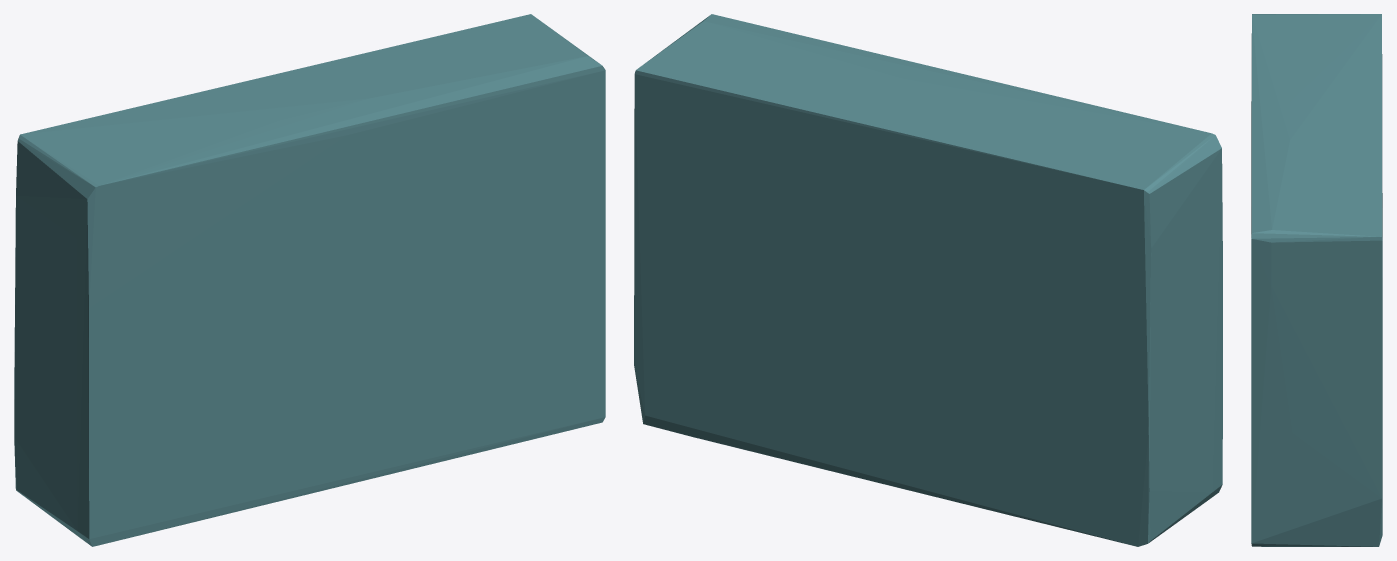
File: crate_gray_a14.glb
3 renders of one model, left to right at view 1: azimuth 30°, elevation 25°; view 2: azimuth 150°, elevation 25°; view 3: azimuth 270°, elevation 25°, orthographic. The views are drawn at different scales.
Parts seen in each view (by area): view 1: geometry_0; view 2: geometry_0; view 3: geometry_0.
Part boxes in pixels (bbox=[...]): geometry_0: bbox=[14, 14, 605, 546]; geometry_0: bbox=[634, 14, 1222, 546]; geometry_0: bbox=[1251, 14, 1382, 546].
Size of the model in its own units: 0.48 by 0.3206 by 0.1196.
